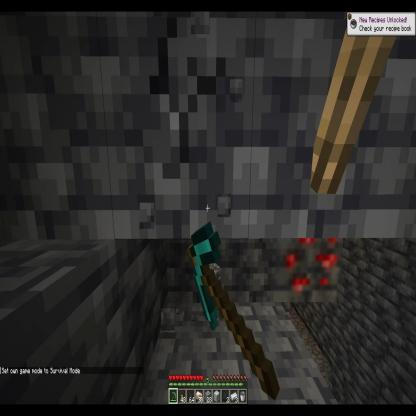redstone ore: (273, 238, 343, 302)
